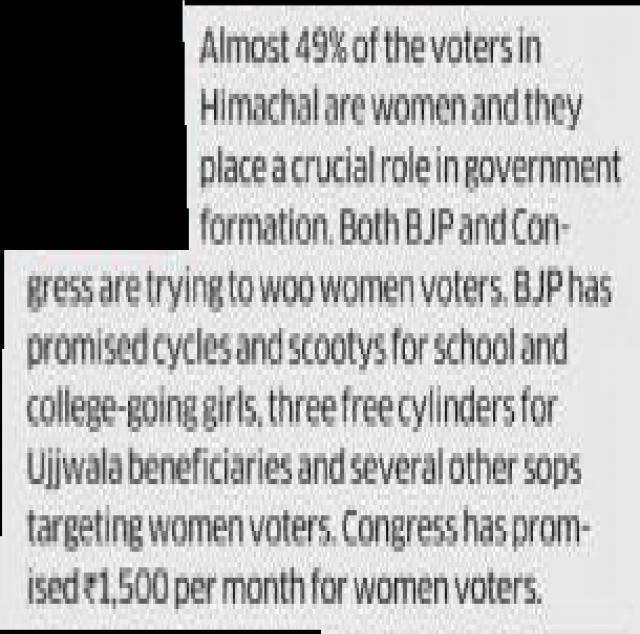paper: (1, 1, 640, 633)
